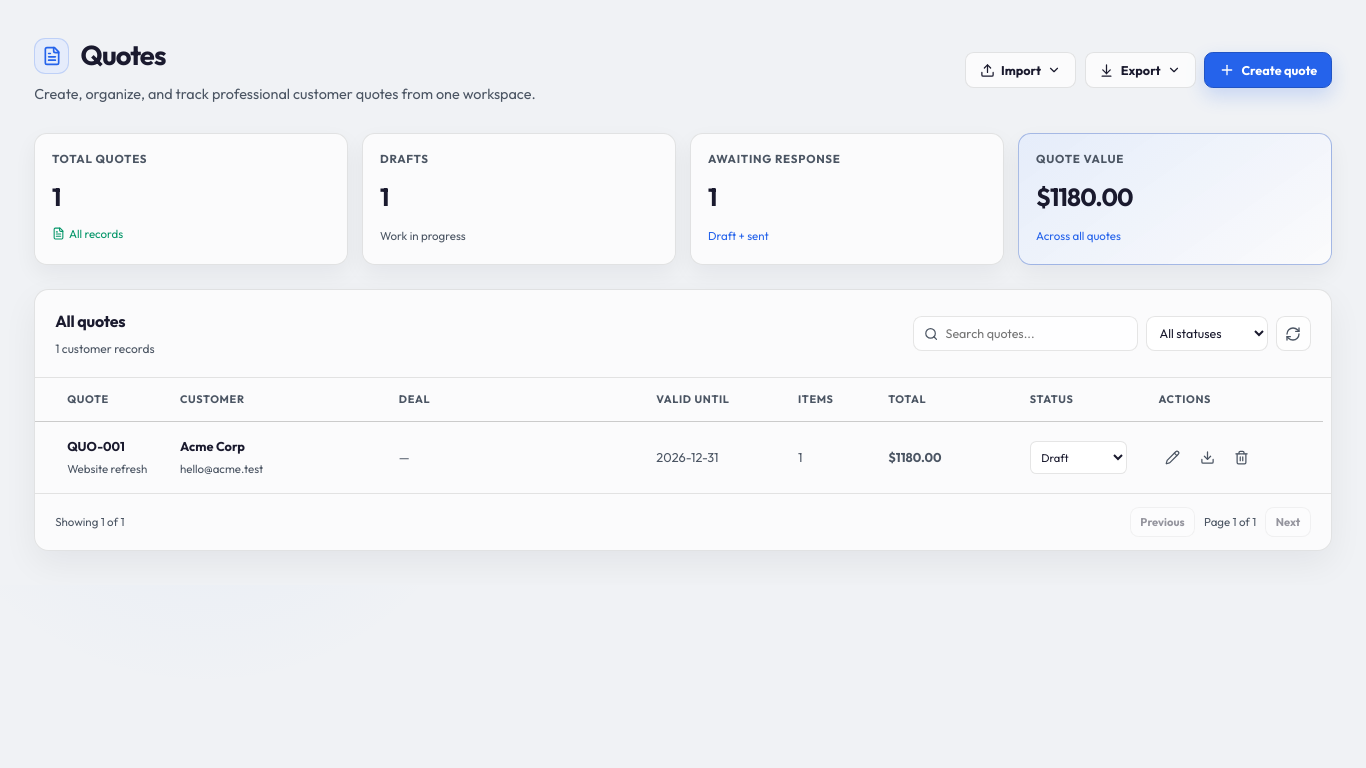
Scenario: <Quotes /> › keeps template download inside the import flow
This screenshot has width=1366, height=768.
Expected: the text "QUO-001" is shown, 67,438 -> 125,454
Expected: the button "Template" is not shown
Click the button "Import".
click(1021, 70)  # box 965,52 -> 1076,88
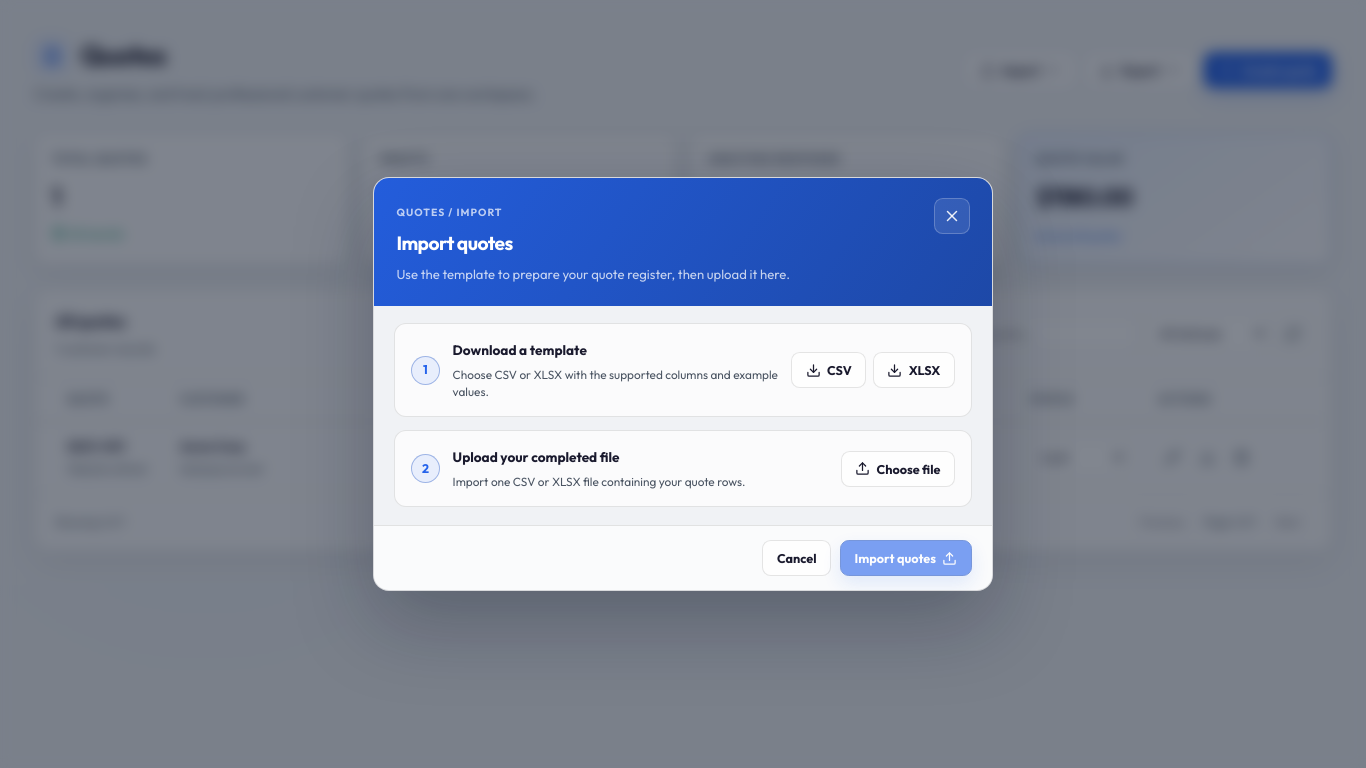
Result: the heading "Import quotes" is shown at 396,230 -> 513,254
Result: the button "CSV" is shown at 791,352 -> 866,388
Result: the button "XLSX" is shown at 873,352 -> 955,388
Click the button named "Close import dialog".
click(952, 216)  # box 934,198 -> 970,234
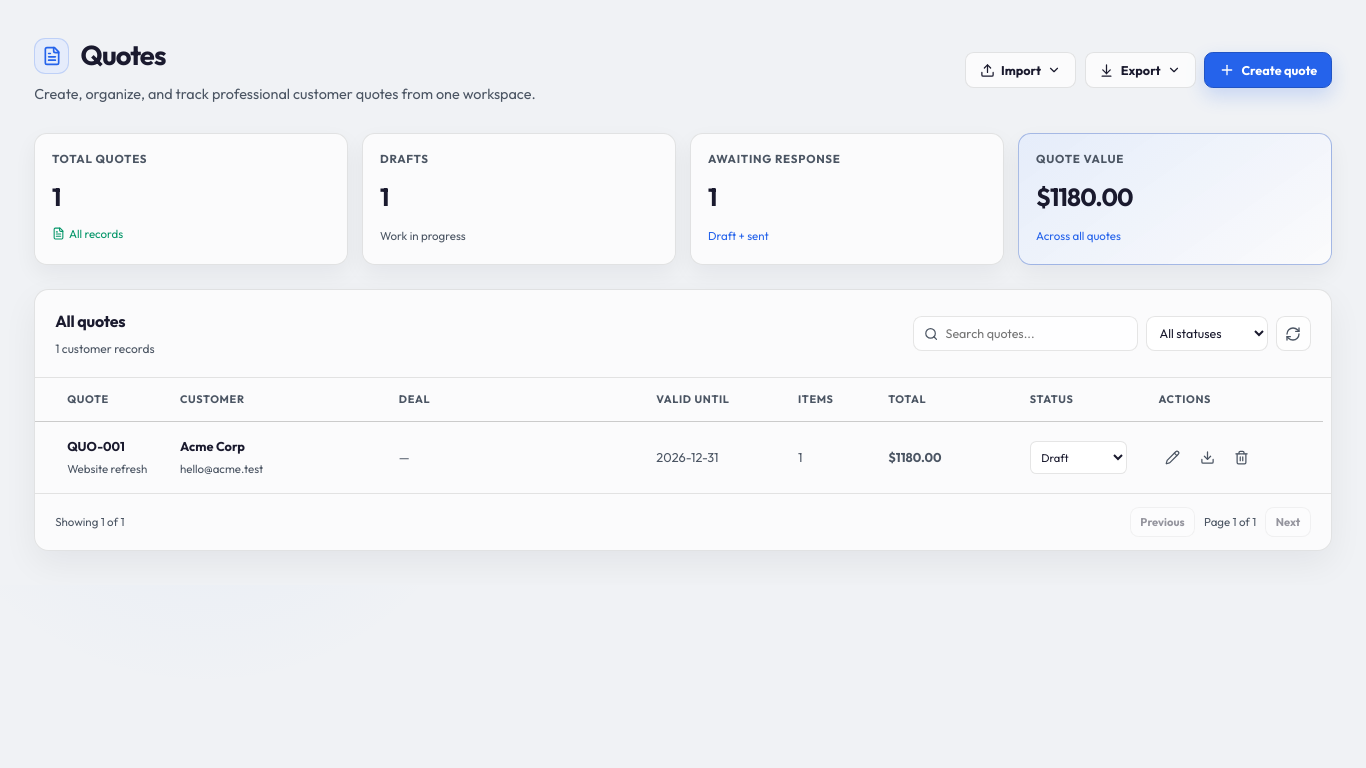
Click the button "Export".
click(1140, 70)  # box 1085,52 -> 1196,88
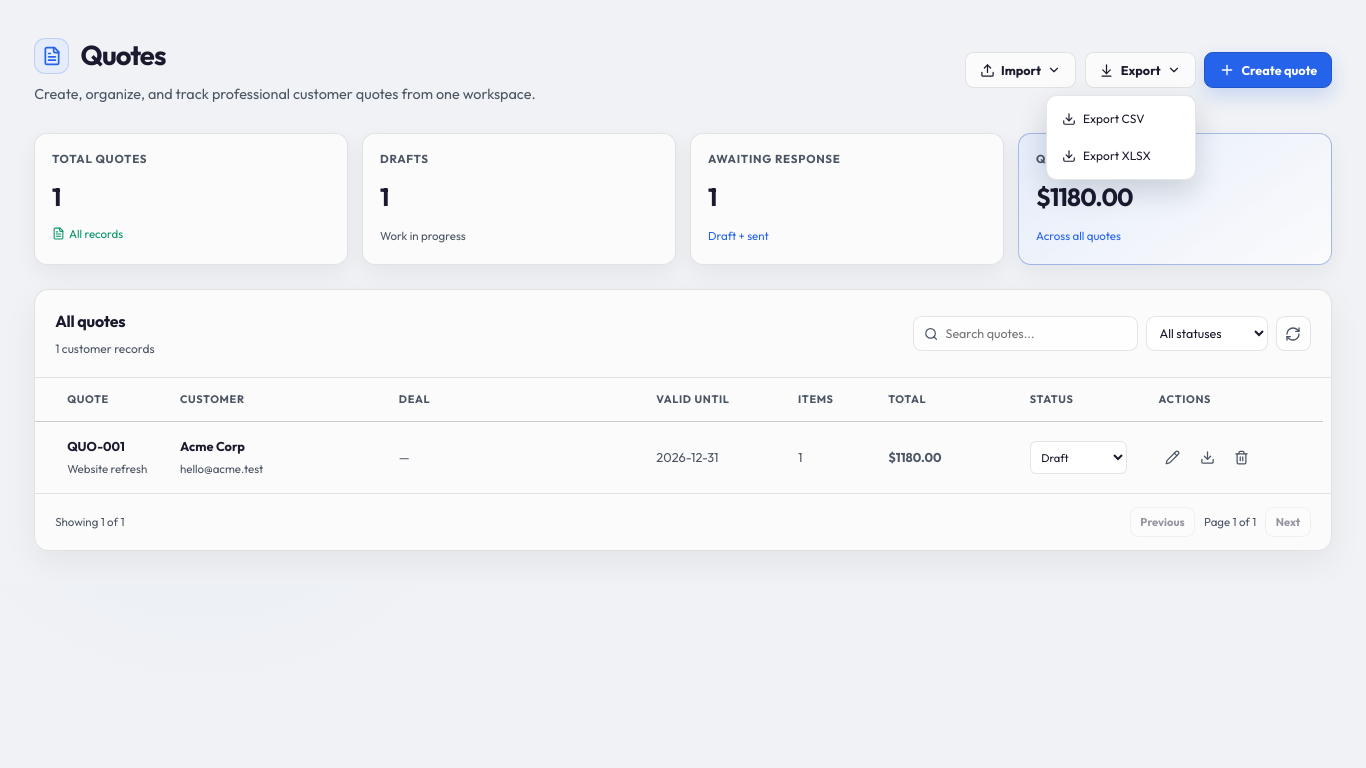
Result: the menu item "Export CSV" is shown at 1051,100 -> 1190,137
Result: the menu item "Export XLSX" is shown at 1051,137 -> 1190,174
